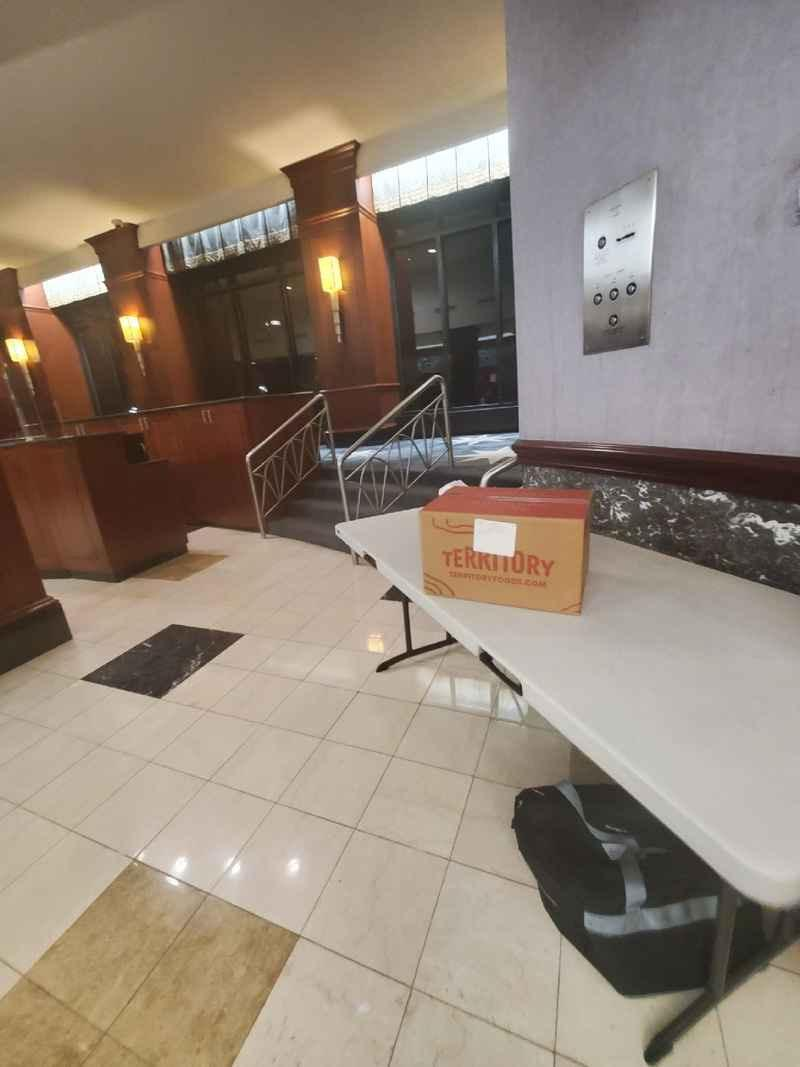package: (416, 481, 605, 618)
